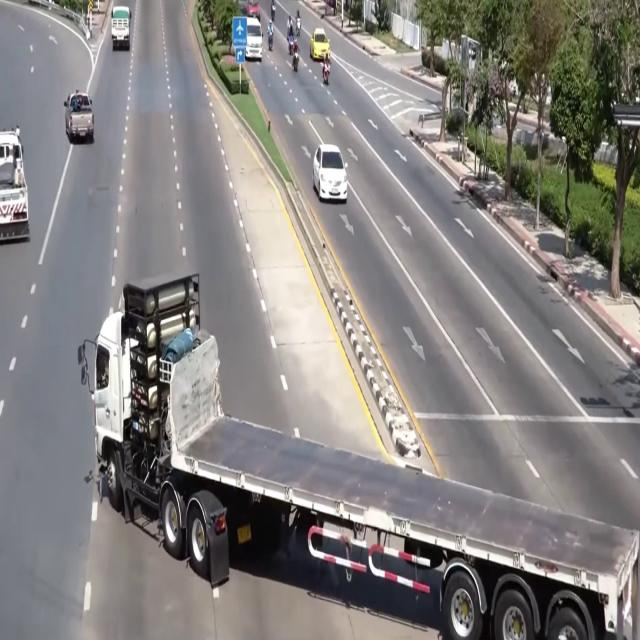car: (313, 144, 347, 202), (245, 17, 263, 60), (310, 28, 330, 60), (247, 0, 260, 20)
scooty: (322, 63, 330, 85), (292, 51, 298, 72), (268, 34, 273, 51), (289, 34, 293, 55), (296, 18, 300, 38), (271, 3, 275, 21)
truck: (77, 274, 639, 639), (0, 128, 29, 241), (64, 90, 94, 143), (111, 6, 130, 50)
